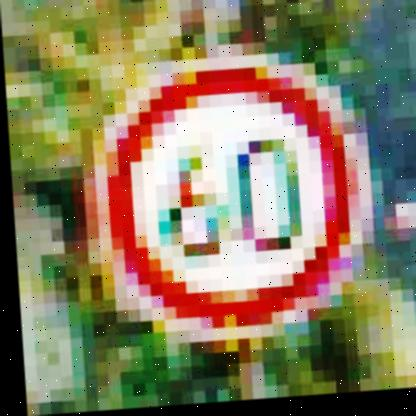Speed Limit -60-: (79, 55, 374, 354)
